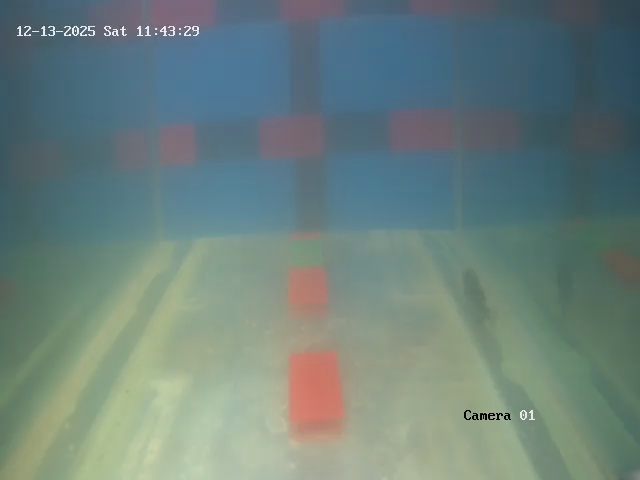fish: (458, 266, 500, 322)
